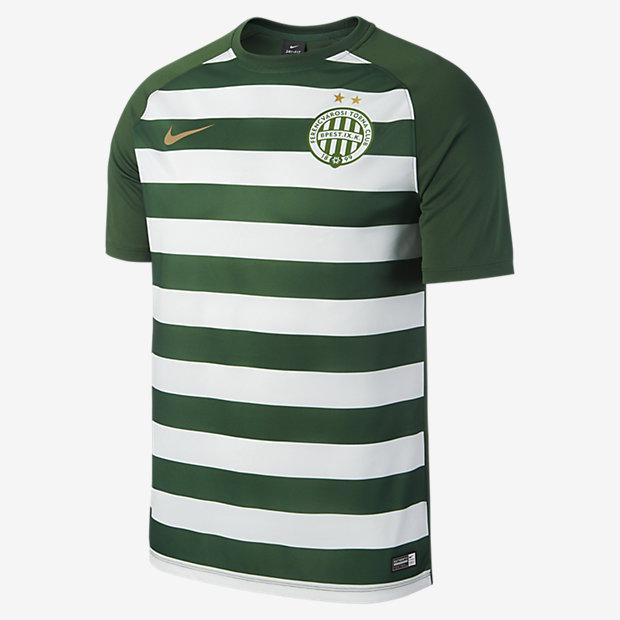teeshirt: (86, 15, 514, 620)
